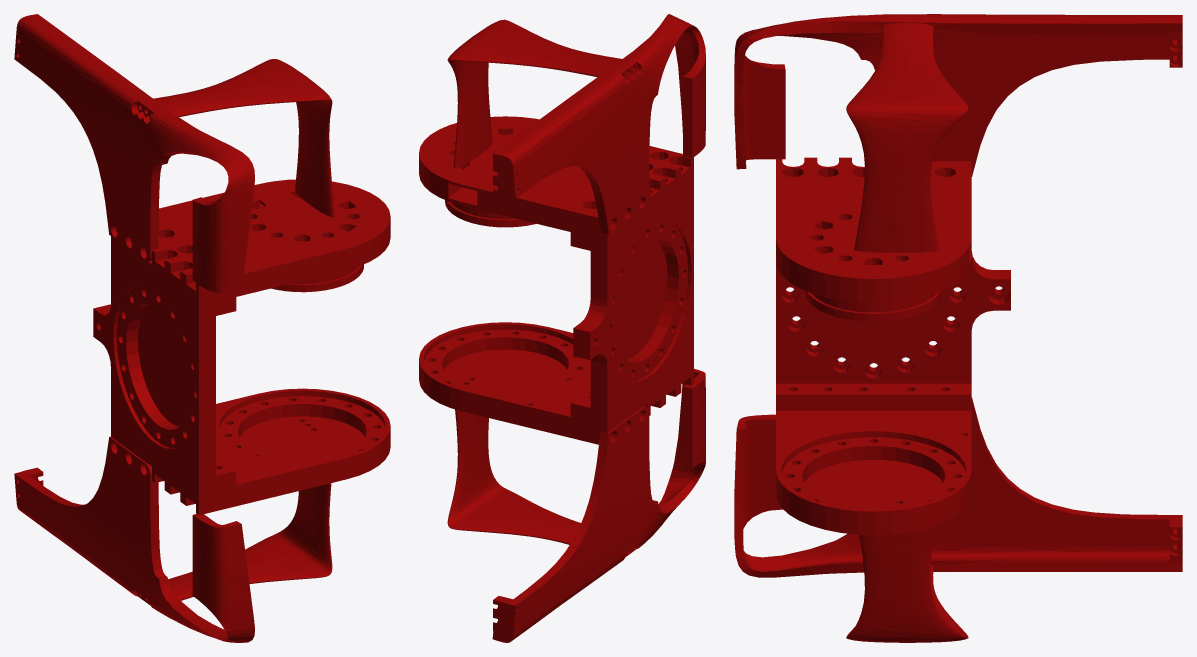
Rendered from waistyaw.obj.
3 renders of one model, left to right at view 1: azimuth 30°, elevation 25°; view 2: azimuth 150°, elevation 25°; view 3: azimuth 270°, elevation 25°, orthographic. The views are drawn at different scales.
Parts seen in each view (by area): view 1: waistyaw; view 2: waistyaw; view 3: waistyaw.
Boxes of the visible parts, left/top/right/bottom form: waistyaw: left=14, top=14, right=390, bottom=642; waistyaw: left=419, top=14, right=705, bottom=642; waistyaw: left=734, top=14, right=1182, bottom=642.
Bounding box in the file's own units: 0.1334 × 0.2803 × 0.2062.
